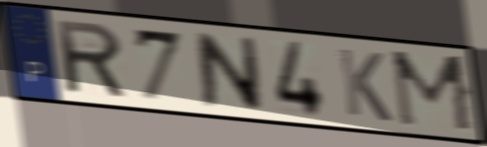4: (273, 39, 327, 119)
7: (128, 25, 188, 102)
K: (335, 45, 396, 125)
M: (387, 48, 478, 136)
N: (192, 30, 265, 114)
R: (52, 17, 130, 101)
